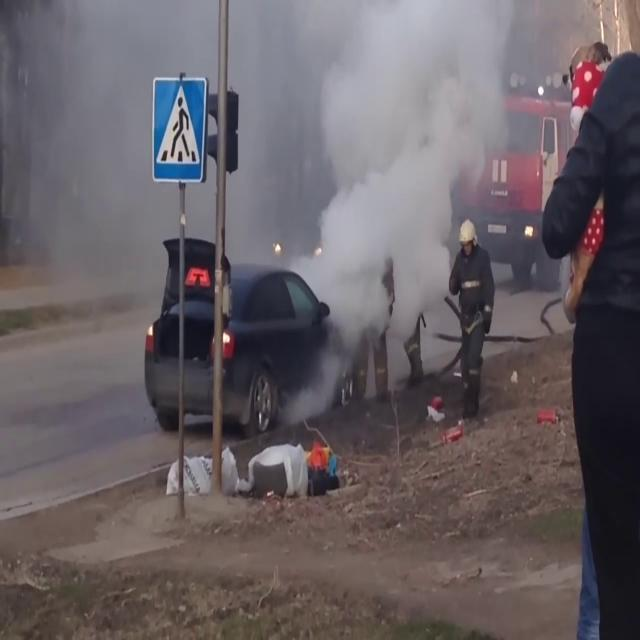Smoke: (272, 1, 520, 358)
